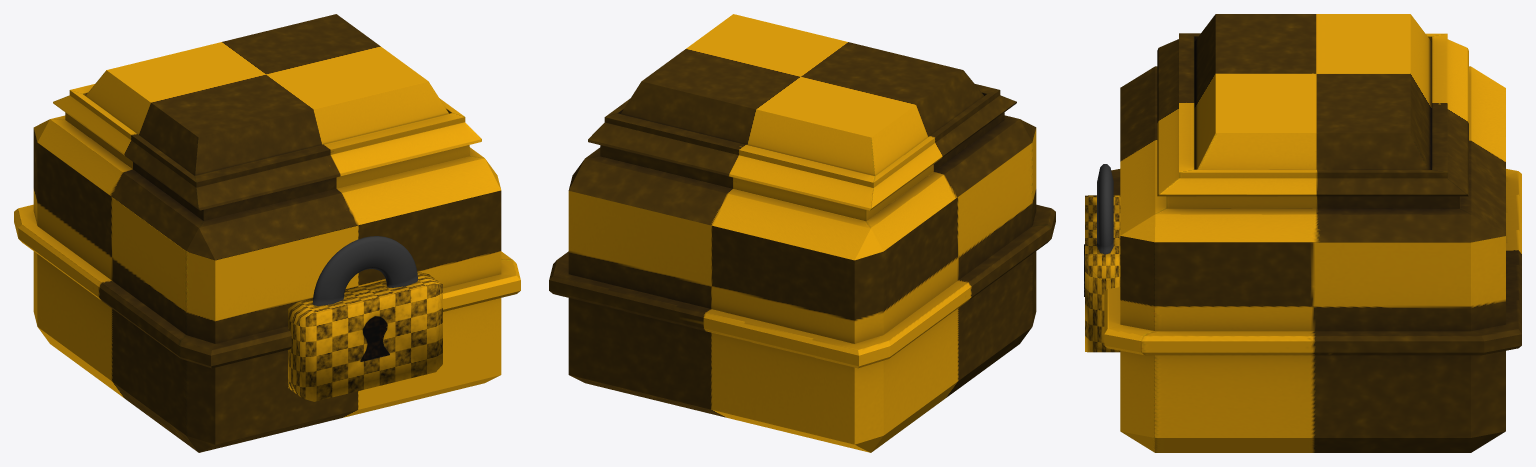
The model's file is GameChestSmall.fbx.
3 renders of one model, left to right at view 1: azimuth 30°, elevation 25°; view 2: azimuth 150°, elevation 25°; view 3: azimuth 270°, elevation 25°, orthographic. The views are drawn at different scales.
Parts seen in each view (by area): view 1: Chest_Short, Chest_Lid_Short, Chest_Short_Lock; view 2: Chest_Short, Chest_Lid_Short; view 3: Chest_Short, Chest_Lid_Short, Chest_Short_Lock.
Boxes of the visible parts, <box> form: Chest_Short: <box>14,128,520,452</box>; Chest_Lid_Short: <box>33,14,501,260</box>; Chest_Short_Lock: <box>288,236,442,401</box>; Chest_Short: <box>549,128,1055,452</box>; Chest_Lid_Short: <box>568,14,1036,260</box>; Chest_Short: <box>1104,169,1521,452</box>; Chest_Lid_Short: <box>1120,14,1505,242</box>; Chest_Short_Lock: <box>1084,164,1120,352</box>.
Bounding box in the file's own units: 171 × 139 × 181.
Materials: 2 (2 with a texture image).
